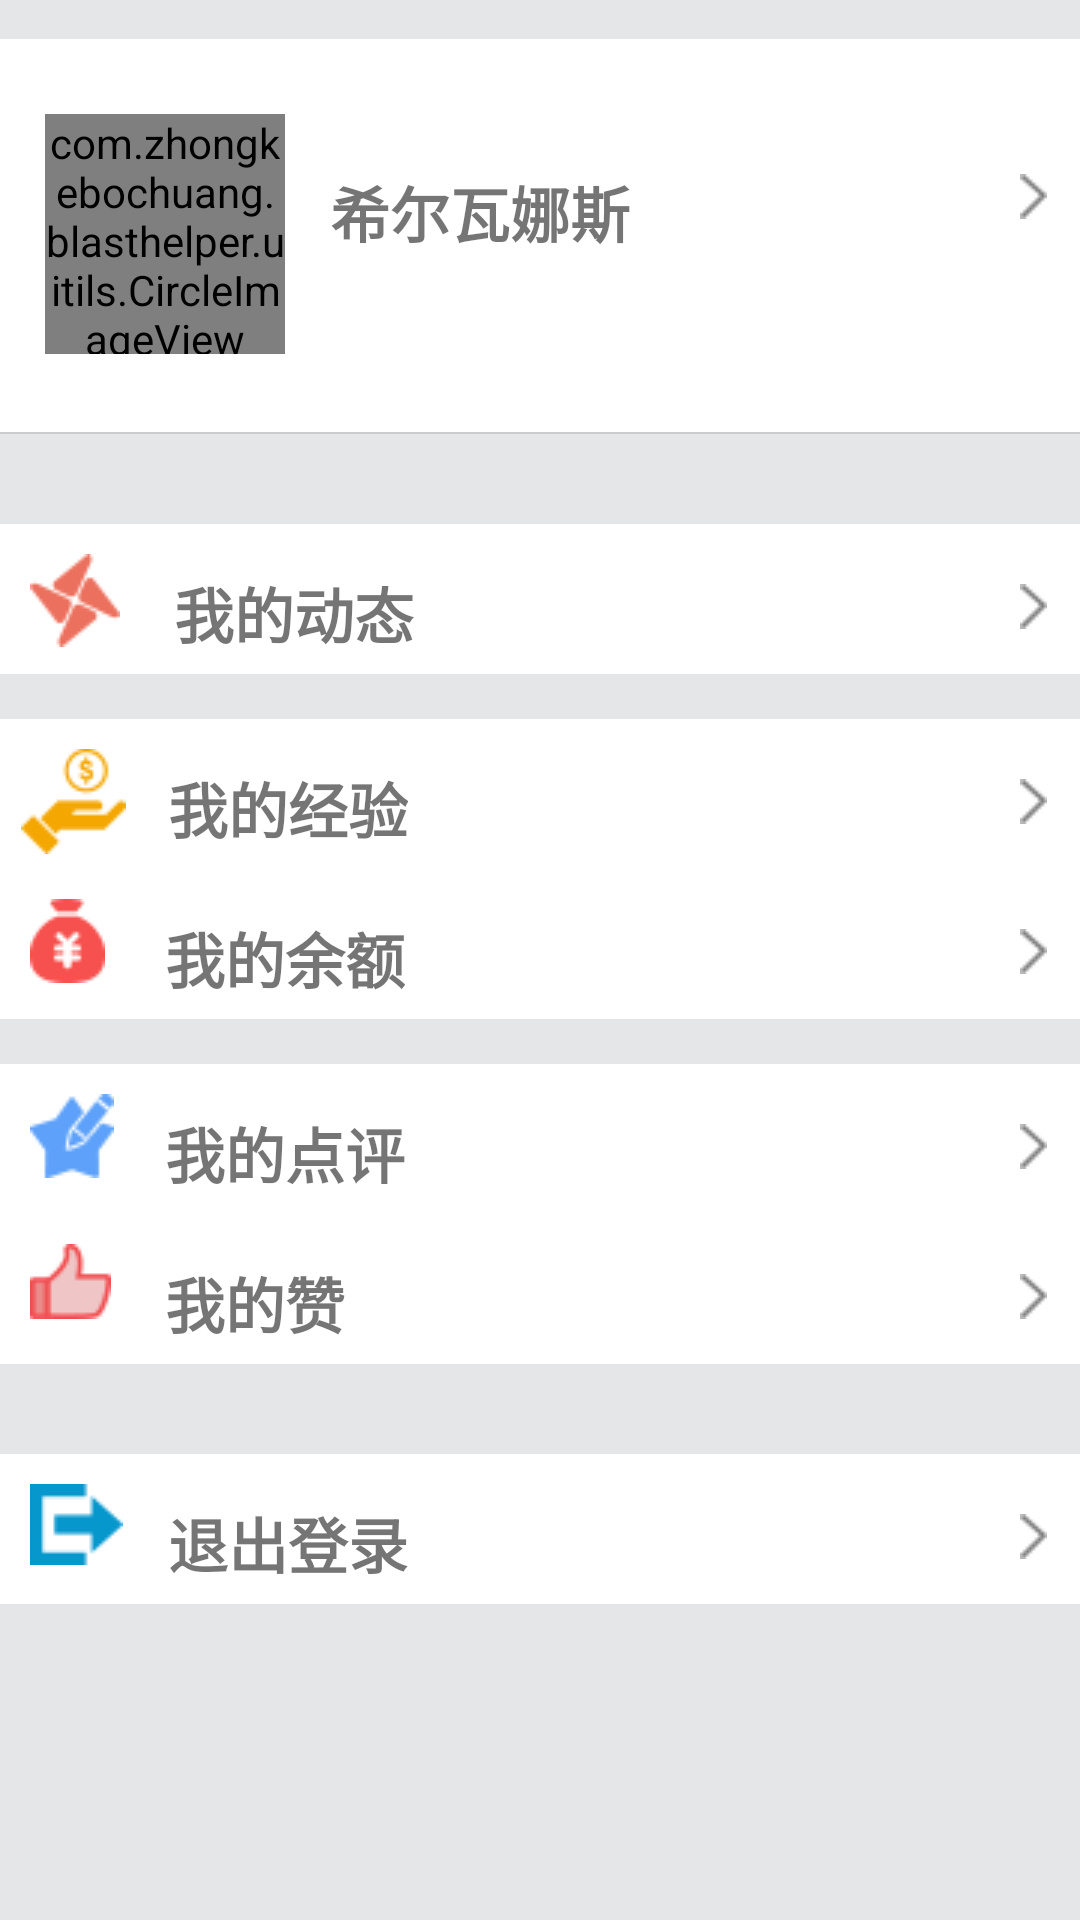

Screen size 1080*1920. Icon name, then its box in pixels as (x1, y1, x2, y2):
jiantou: (1020, 174, 1047, 219), (1020, 584, 1047, 629), (1020, 779, 1047, 824), (1020, 929, 1047, 974), (1020, 1124, 1047, 1169), (1020, 1274, 1047, 1319), (1020, 1514, 1047, 1559)
wode dianping: (30, 1094, 114, 1178)
wode finish: (30, 1484, 123, 1565)
wode yue: (30, 899, 105, 983)
wode zan: (30, 1244, 111, 1319)
